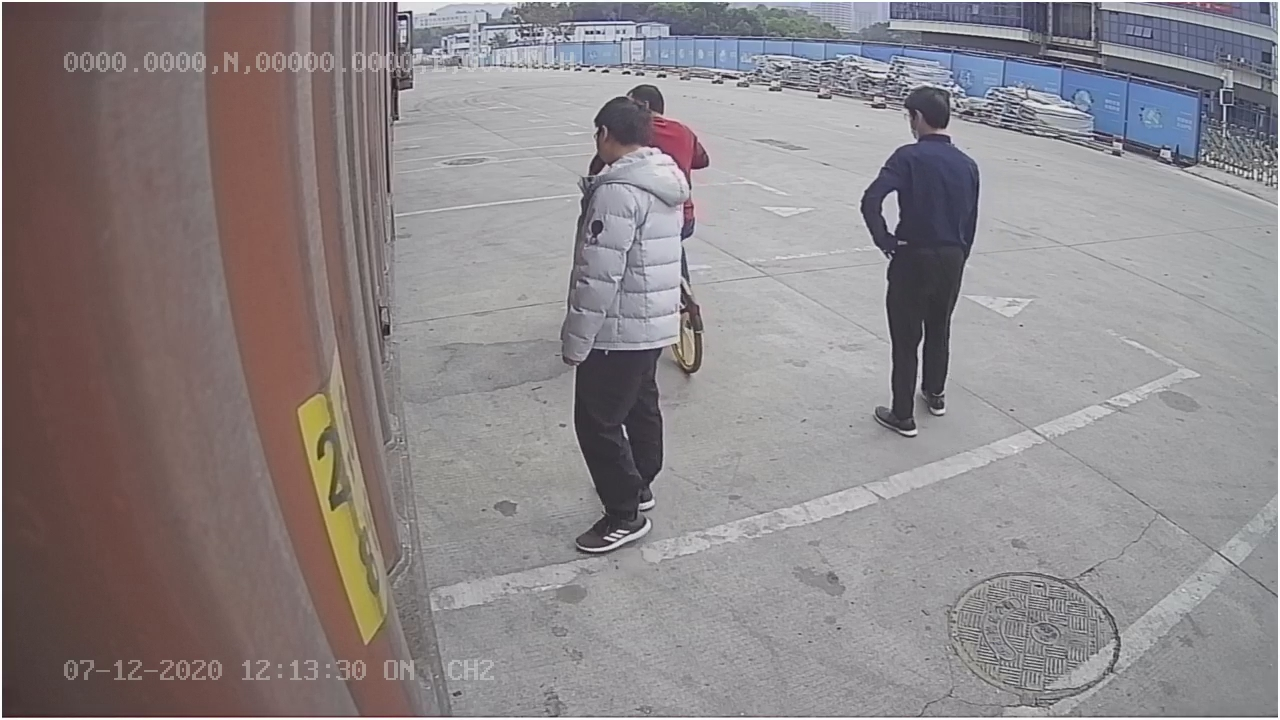person: (858, 83, 983, 436)
